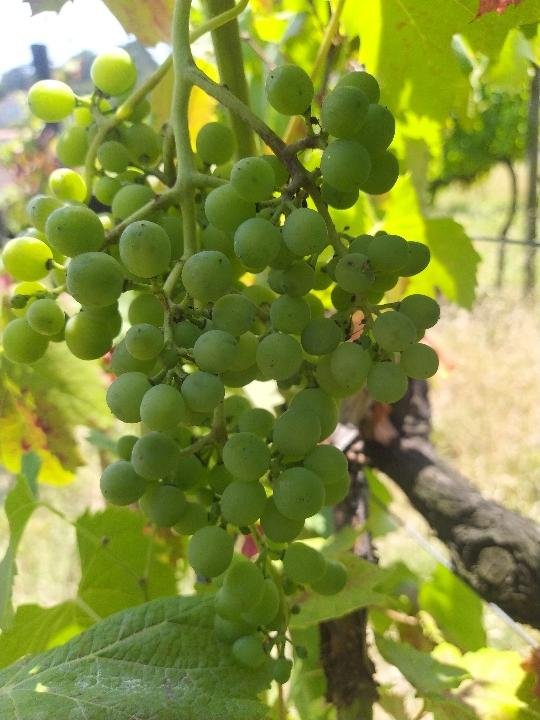grape: (3, 44, 443, 686)
